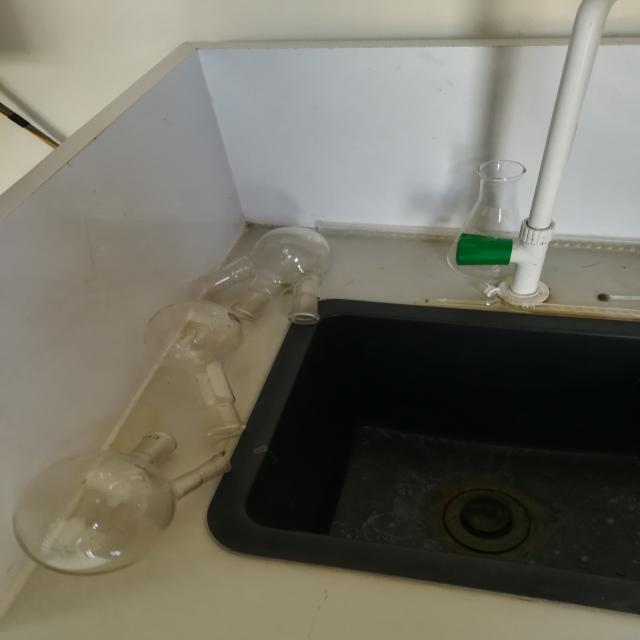Round_Bottom_Flask_Borosilicate_Glass_1_Neck: (125, 289, 280, 443)
Round_Bottom_Flask_Borosilicate_Glass_2_Neck: (0, 415, 262, 590)
Round_Bottom_Flask_Borosilicate_Glass_3_Neck: (188, 196, 378, 330)
